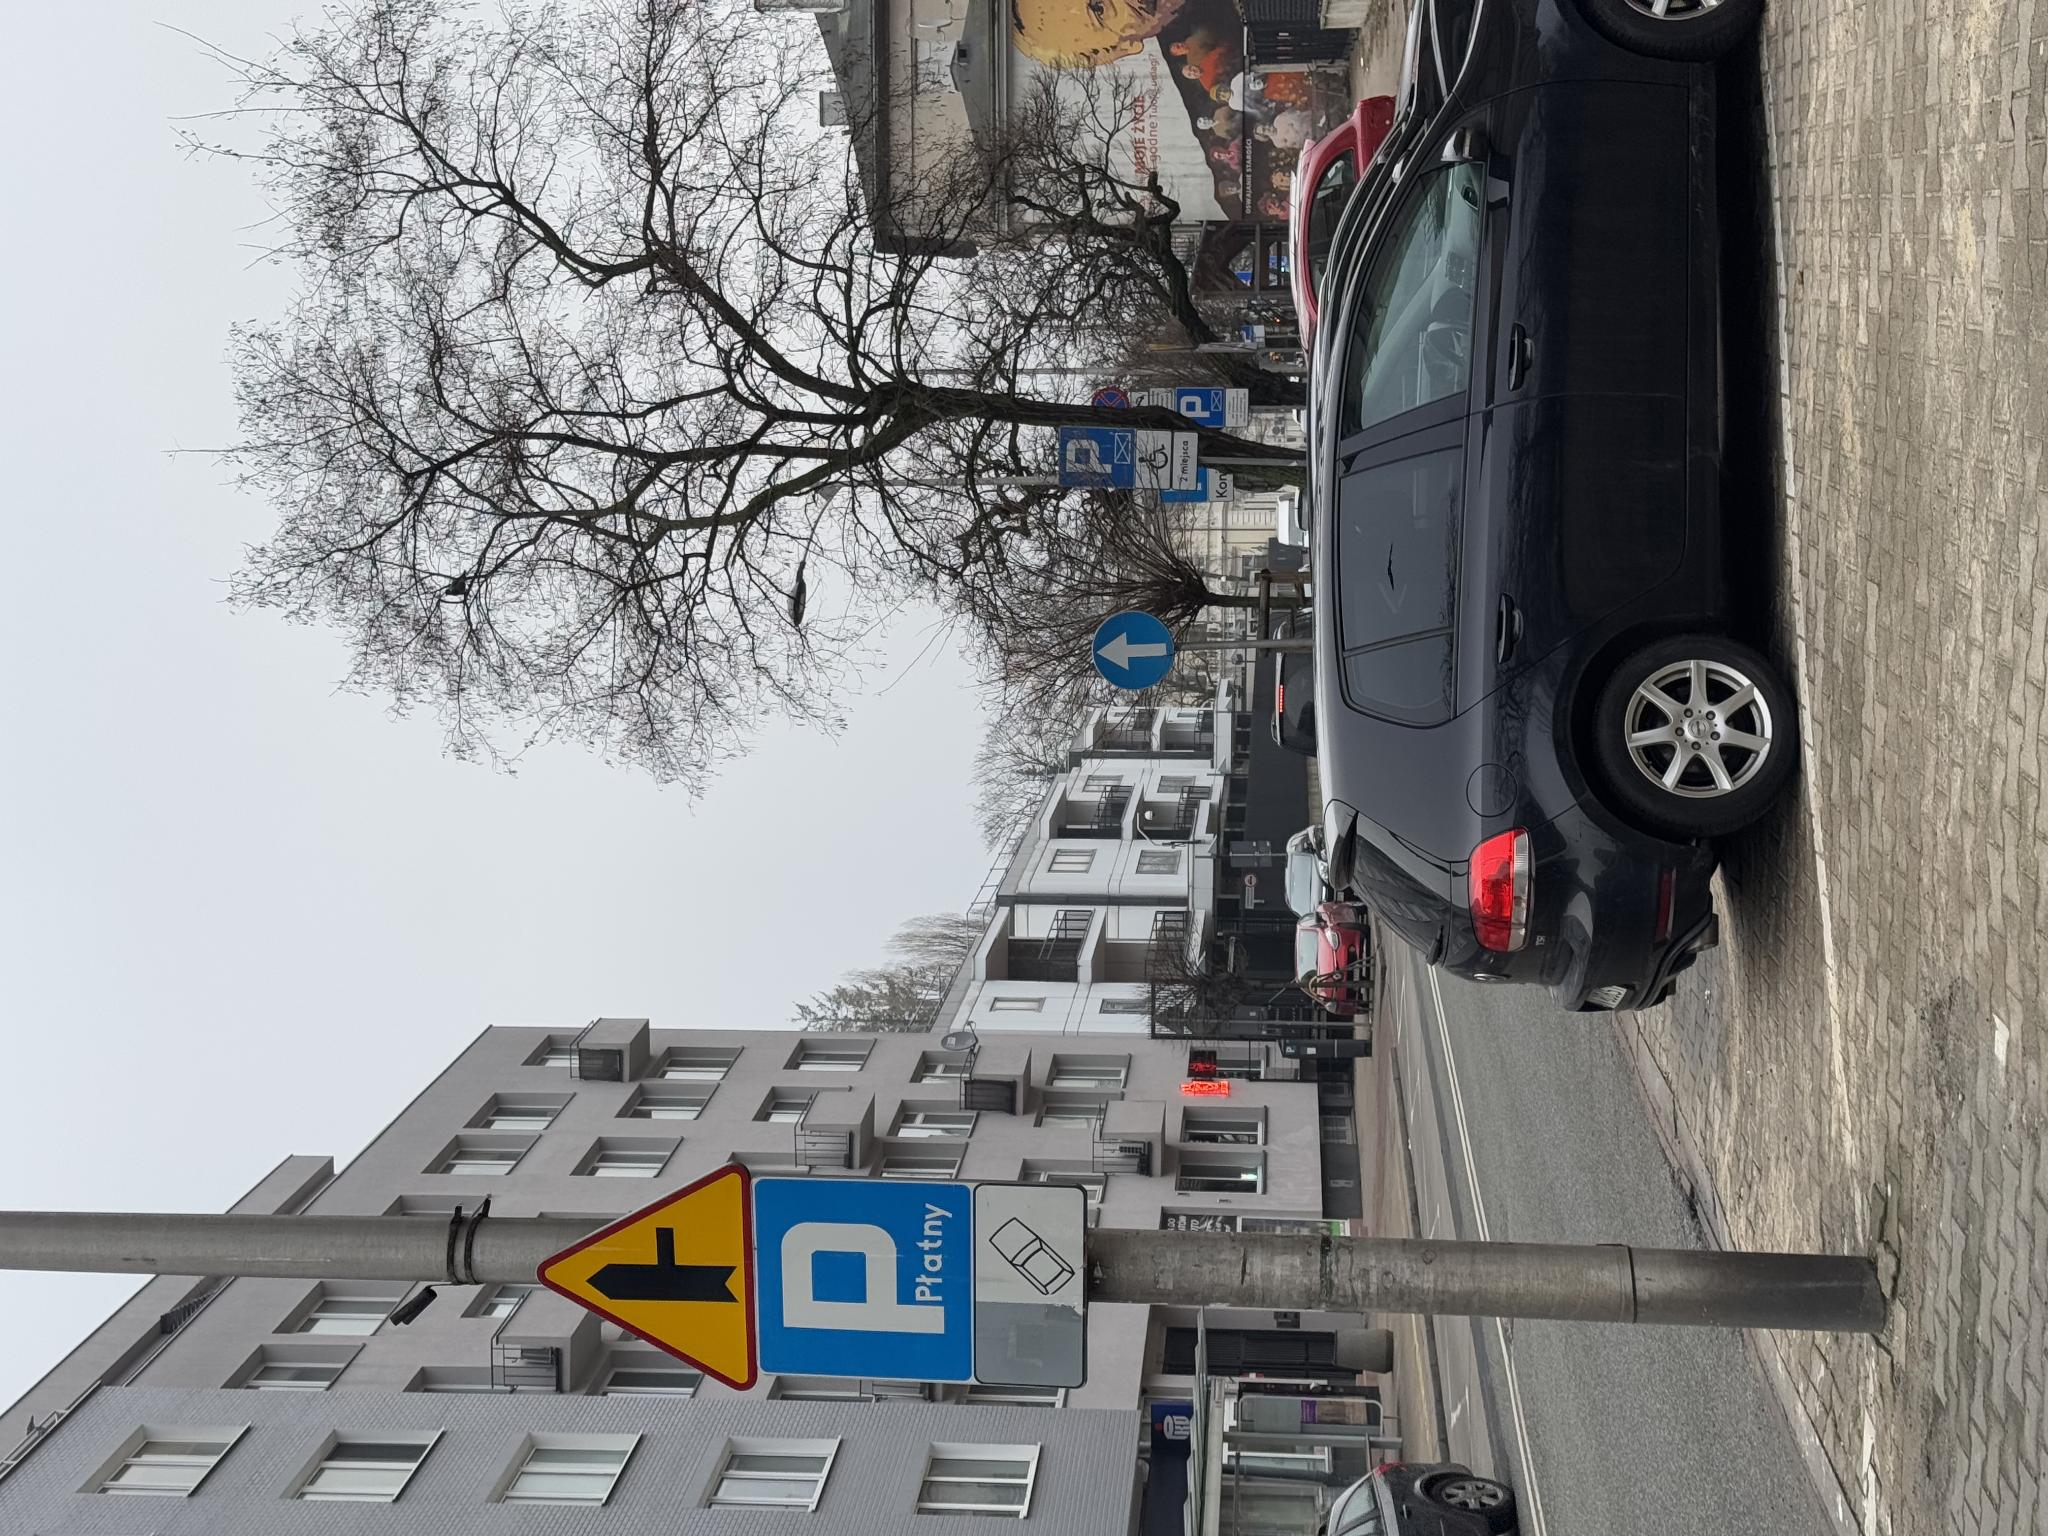information: (153, 753, 363, 971), (1047, 1058, 1109, 1136), (1108, 1176, 1150, 1225)
mandatory: (845, 1091, 927, 1176)
other: (147, 973, 360, 1087), (1045, 1136, 1106, 1171), (1045, 1171, 1105, 1199), (1108, 1226, 1148, 1249), (1035, 1207, 1068, 1233), (1127, 1150, 1148, 1175), (1129, 1131, 1145, 1149)
prohibitory: (1127, 1092, 1150, 1131)
warning: (142, 534, 376, 757)
